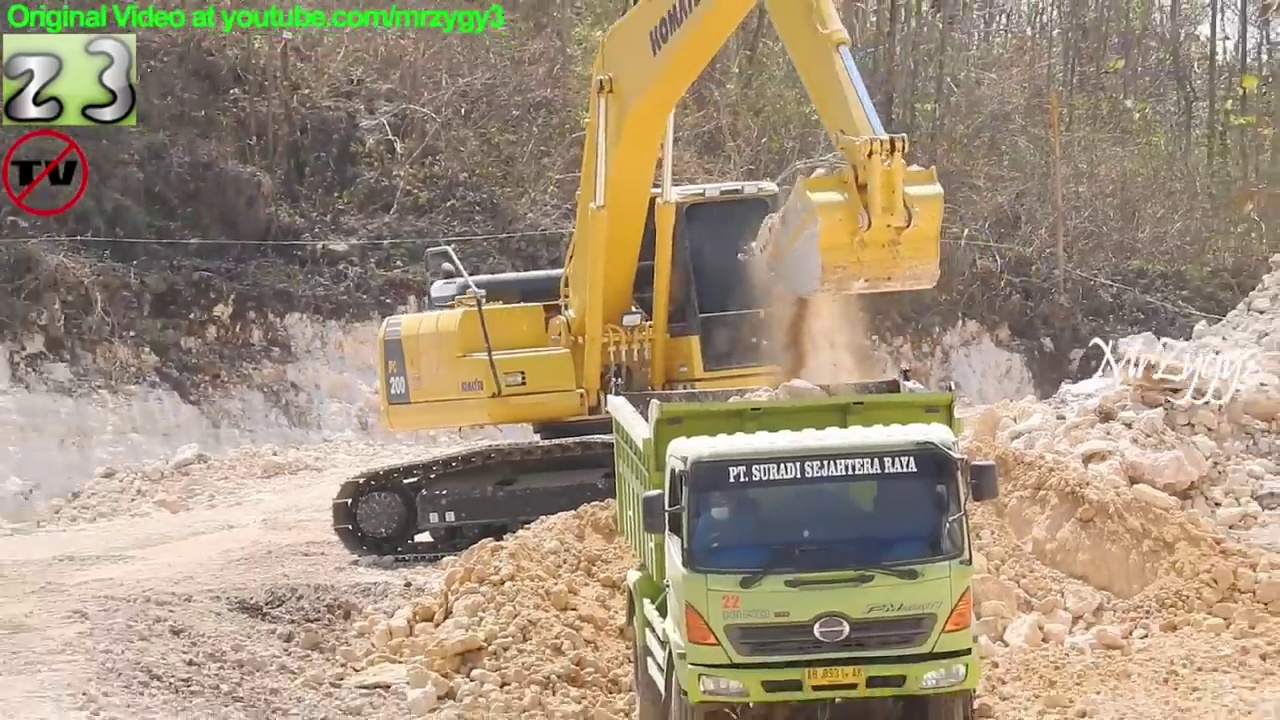excavator: (334, 4, 953, 550)
truck: (606, 388, 981, 718)
